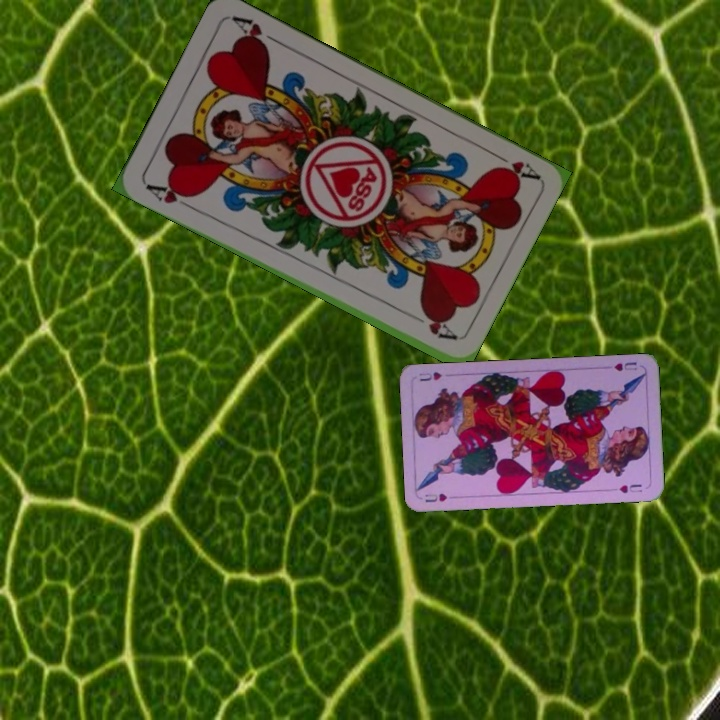HA: (486, 146, 541, 183), (141, 179, 197, 213)
HU: (421, 489, 460, 505), (610, 358, 639, 373)
